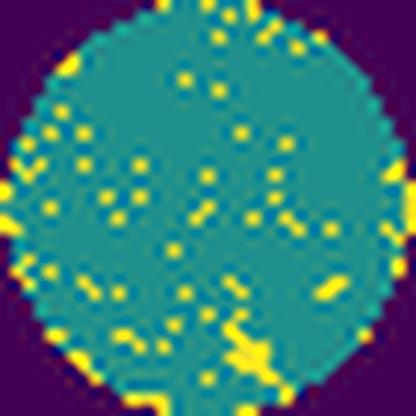Loc: (224, 318, 284, 388)
